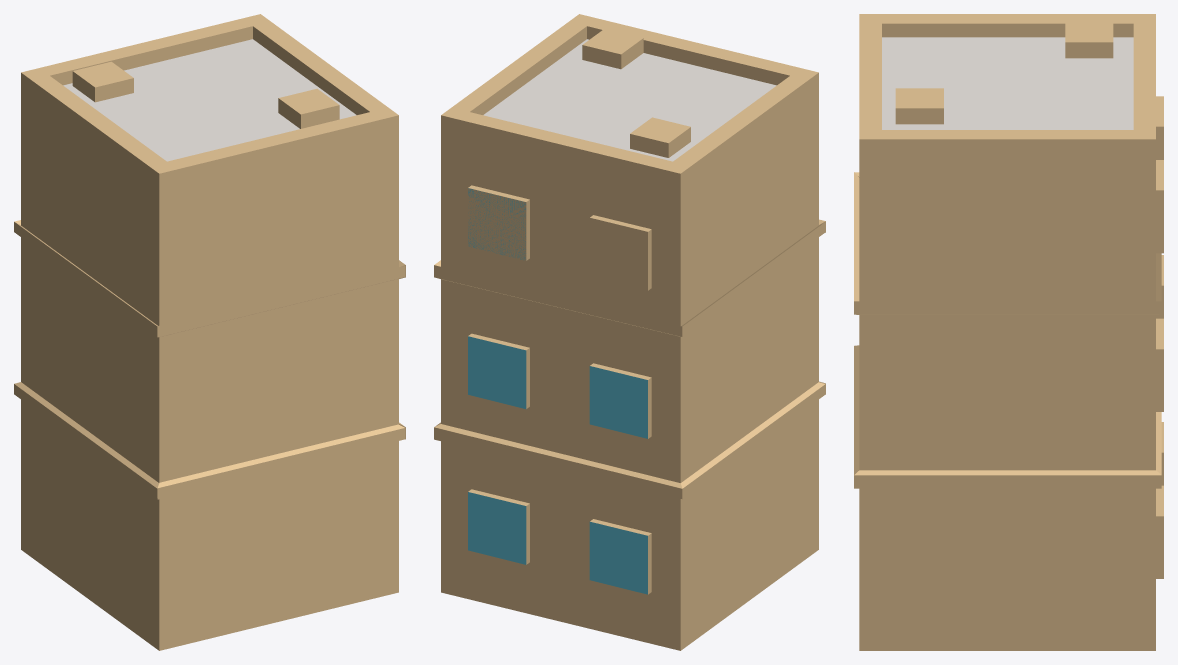
Rendered from building.glb.
3 views of the same model, side by side, from view 1: azimuth 30°, elevation 25°; view 2: azimuth 150°, elevation 25°; view 3: azimuth 270°, elevation 25° (orthographic). The views are drawn at different scales.
Parts seen in each view (by area): view 1: Cube.002; view 2: Cube.002; view 3: Cube.002.
Boxes of the visible parts, x1,y1,x2,y2 form: Cube.002: (14,14,405,650); Cube.002: (434,14,825,650); Cube.002: (854,14,1163,650).
Size of the model in its own units: 2.07 by 3.87 by 2.09.
